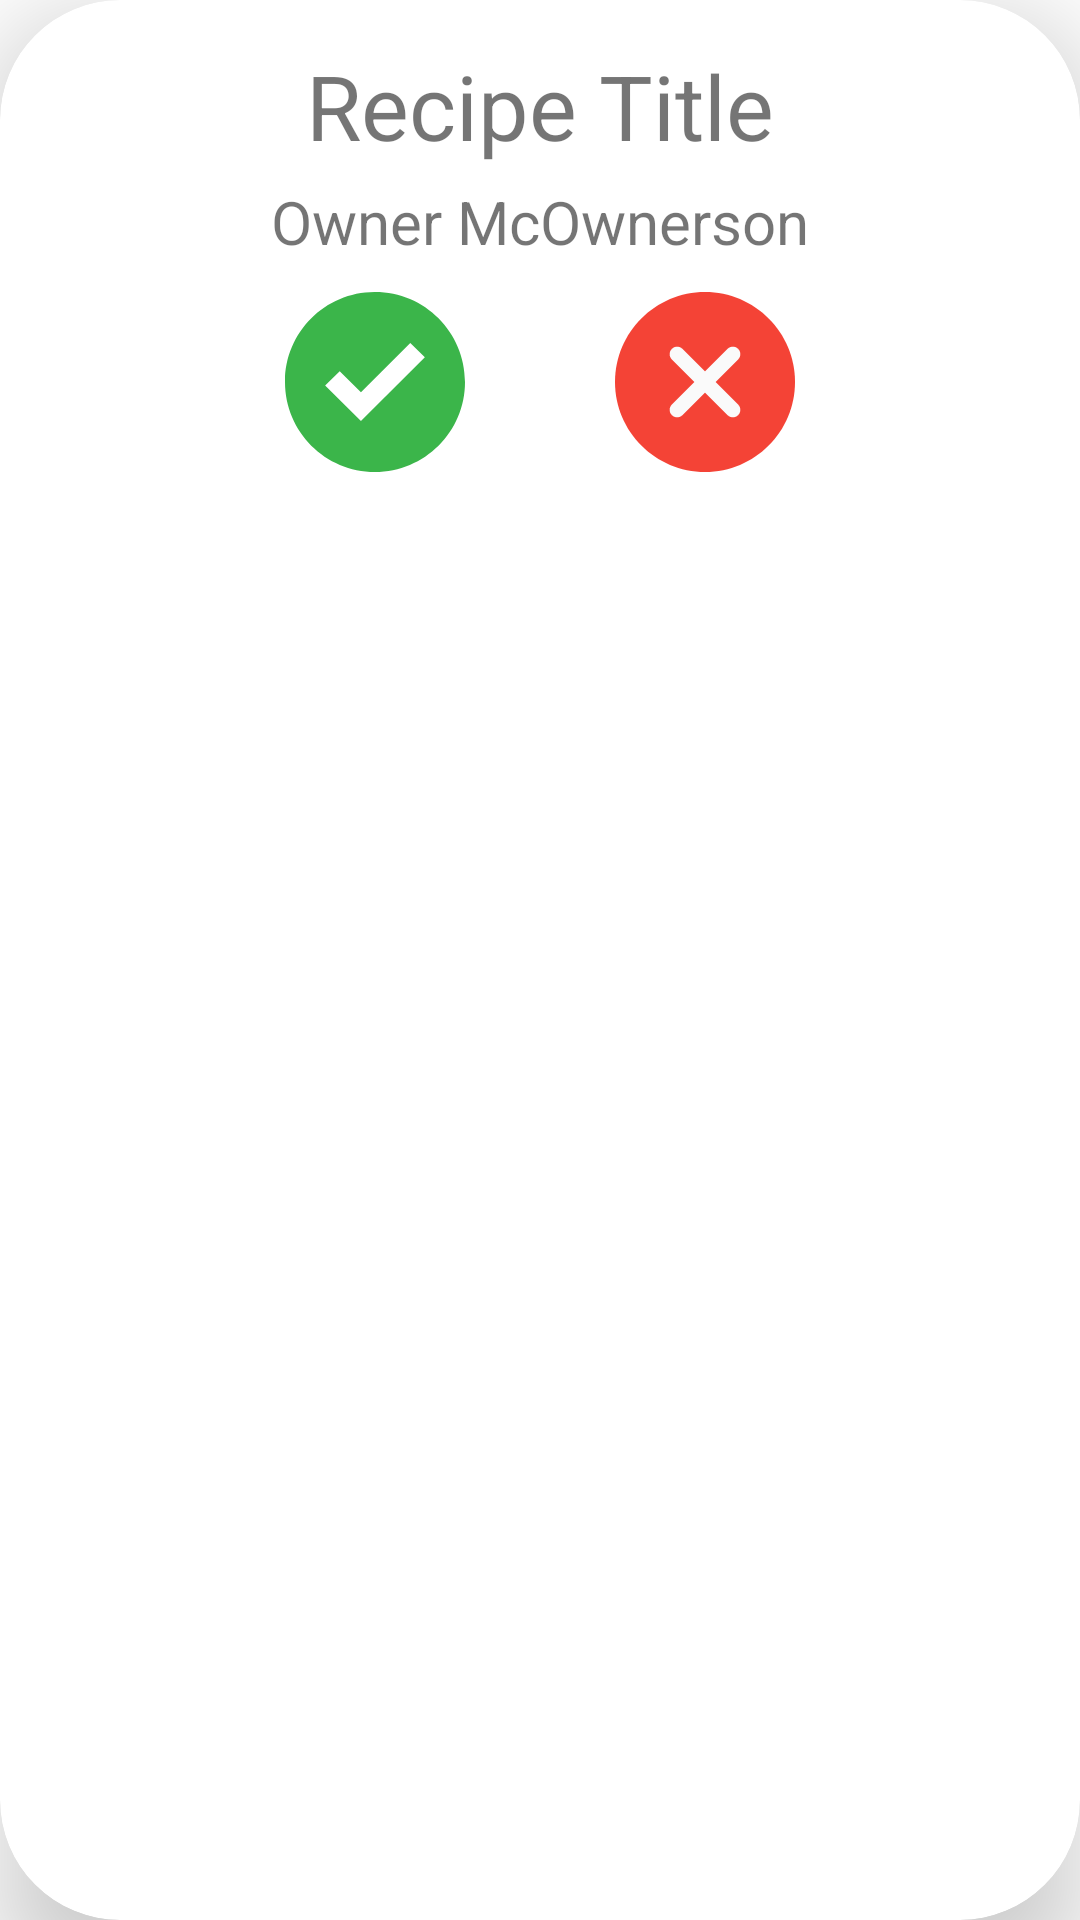

Where icons sit on this 1080px x 1920px app screen, as [x1=x1, y1=y1, x2=x2, y2=y2]:
check: [x1=285, y1=292, x2=465, y2=472]
remove: [x1=615, y1=292, x2=795, y2=472]
